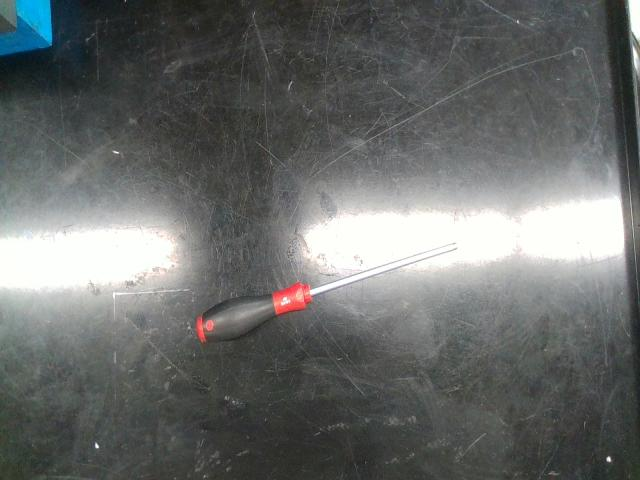Screwdriver: (198, 243, 458, 342)
